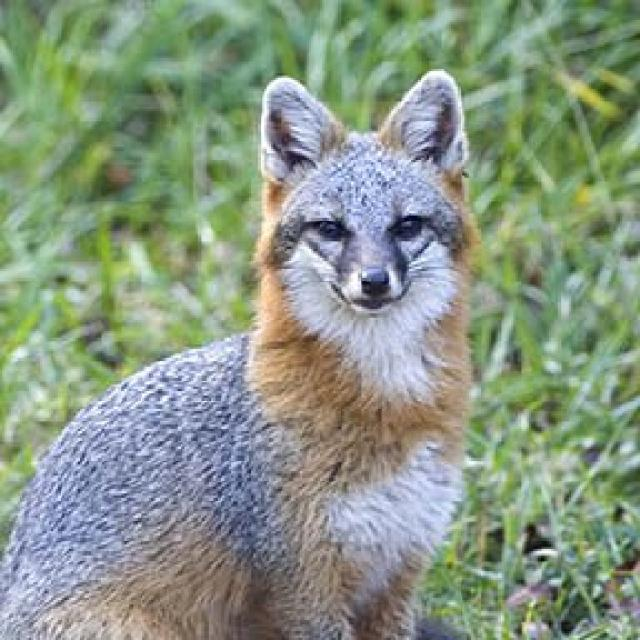fox: (0, 67, 482, 638)
